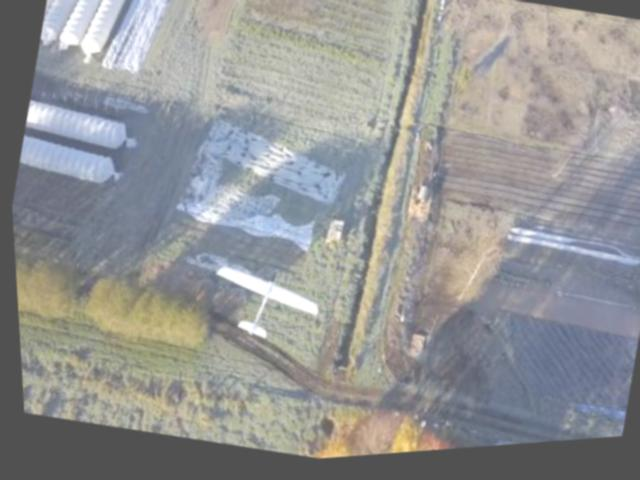uav: (194, 250, 334, 368)
